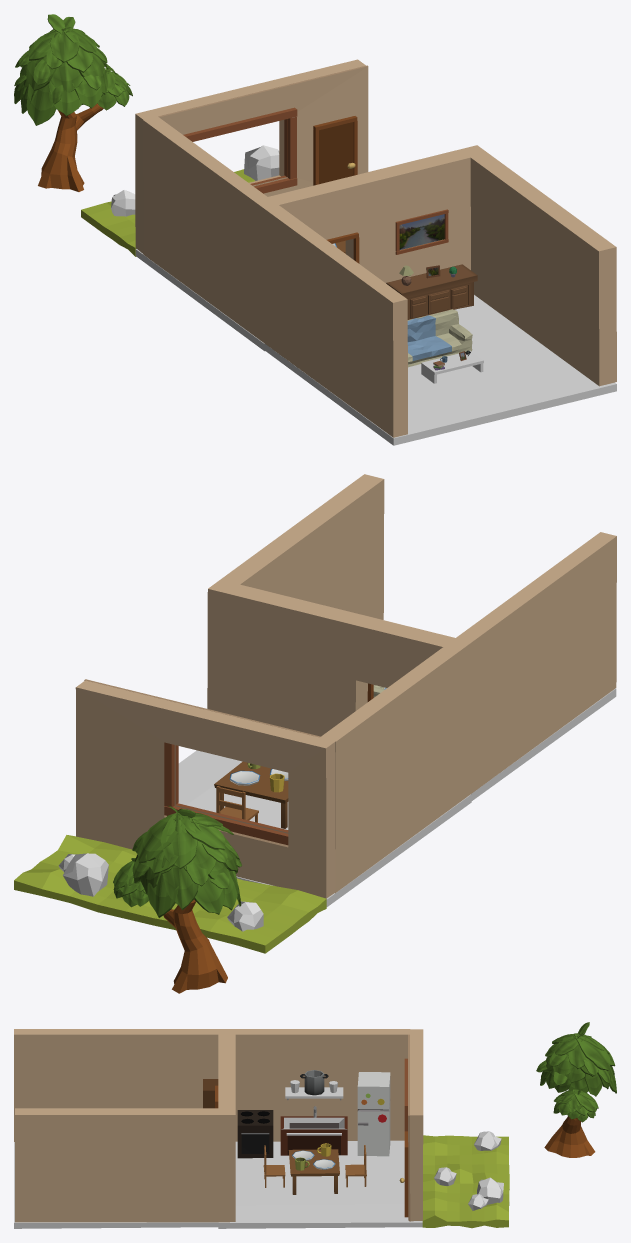
The model's file is SalaBrumas.fbx.
3 renders of one model, top to bottom at view 1: azimuth 30°, elevation 25°; view 2: azimuth 150°, elevation 25°; view 3: azimuth 270°, elevation 25°, orthographic. The views are drawn at different scales.
Parts seen in each view (by area): view 1: Porta.001, Paredes.002, ArvoreTop, Cube, Porta, Cube.001, Arbustos, Porta.002, Paredes.001, Cube.005; view 2: Porta.001, ArvoreTop, Paredes.001, Arbustos, Mesa, Paredes.002, CadeiraDaDireita; view 3: Porta.001, Paredes.001, ArvoreTop, Geladeira, Pia, Fogao, Arbustos, Paredes.002, Mesa, Panela, Prateleira, Porta (+3 smaller).
Boxes of the visible parts, box(x1,y1,x2,y2) form: Porta.001: box(81, 59, 616, 437); Paredes.002: box(264, 295, 616, 445); ArvoreTop: box(14, 14, 132, 191); Cube: box(386, 264, 477, 319); Porta: box(313, 116, 357, 185); Cube.001: box(407, 309, 472, 367); Arbustos: box(111, 145, 279, 216); Porta.002: box(399, 214, 444, 249); Paredes.001: box(135, 249, 265, 351); Cube.005: box(421, 350, 483, 383); Porta.001: box(14, 474, 616, 953); ArvoreTop: box(113, 806, 241, 993); Paredes.001: box(178, 750, 471, 906); Arbustos: box(58, 853, 263, 931); Mesa: box(214, 761, 288, 828); Paredes.002: box(384, 687, 616, 800); CadeiraDaDireita: box(216, 786, 258, 822); Porta.001: box(14, 1029, 509, 1228); Paredes.001: box(218, 1140, 422, 1228); ArvoreTop: box(536, 1022, 616, 1157); Geladeira: box(357, 1072, 390, 1156); Pia: box(280, 1106, 347, 1155); Fogao: box(237, 1110, 273, 1158); Arbustos: box(434, 1131, 503, 1210); Paredes.002: box(14, 1142, 218, 1228); Mesa: box(288, 1149, 339, 1194); Panela: box(300, 1070, 328, 1095); Prateleira: box(285, 1087, 343, 1100); Porta: box(399, 1131, 408, 1217).
Size of the model in its own units: 370 by 239 by 1014.
Materials: 5 (2 with a texture image).
